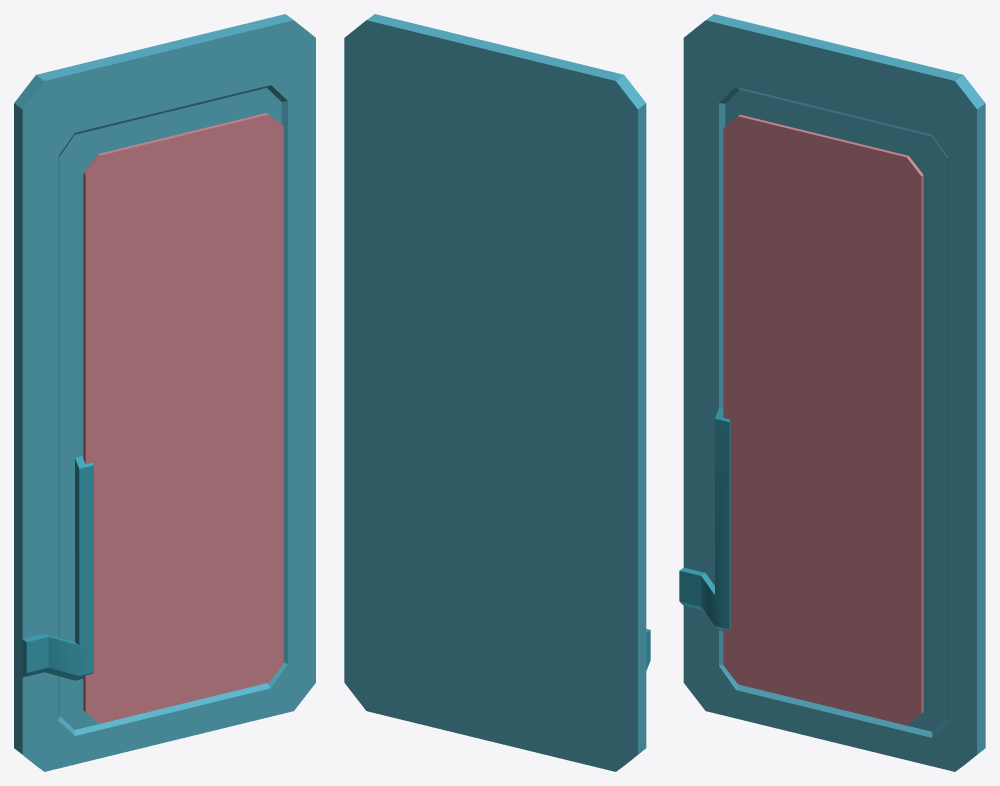
Rendered from sign_vert_facade.fbx.
The picture shows the model from 3 angles, left to right: view 1: azimuth 30°, elevation 25°; view 2: azimuth 150°, elevation 25°; view 3: azimuth 330°, elevation 25°; orthographic projection.
Visible parts, largest first — view 1: L6 default default; view 2: L6 default default; view 3: L6 default default.
Boxes of the visible parts, x1,y1,x2,y2 form: L6 default default: [14, 14, 315, 771]; L6 default default: [344, 14, 650, 771]; L6 default default: [679, 14, 985, 771].
Bounding box in the file's own units: 20000 × 45000 × 2500.
